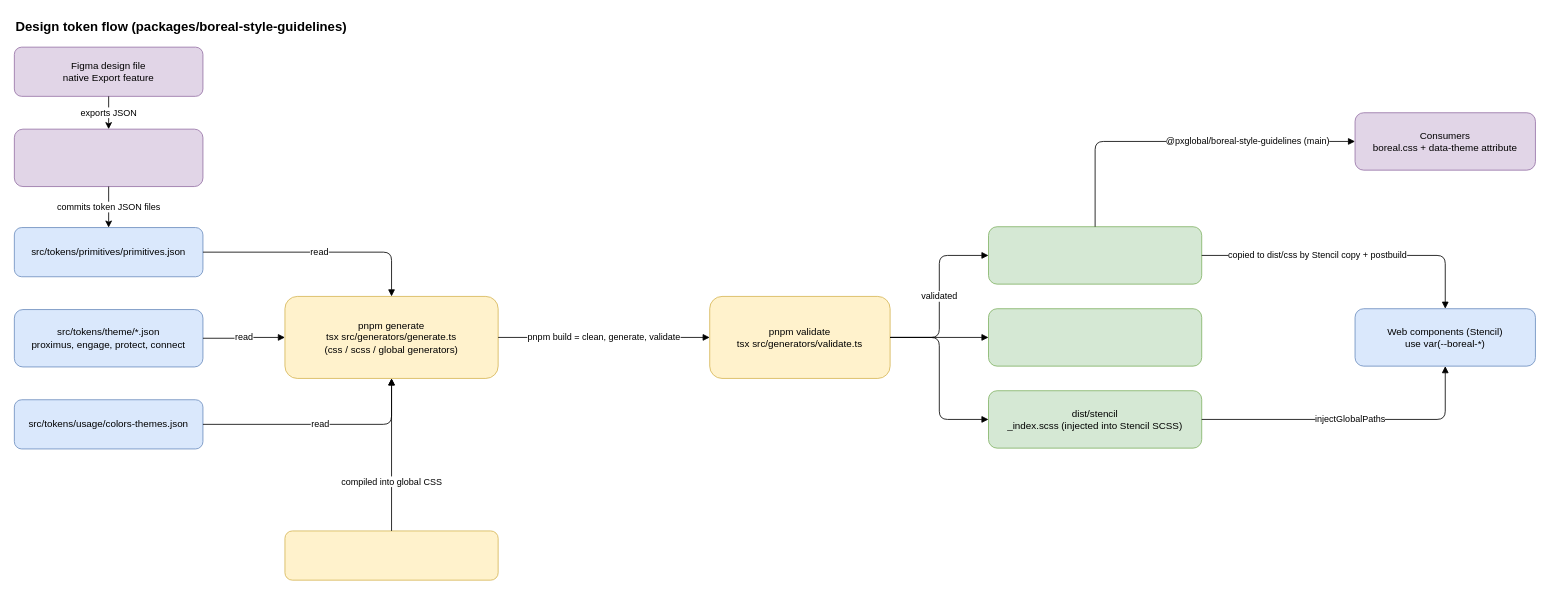
This 1550x595 diagram has some shape labels left out. Each missing label, with the centre of its shape:
dist/css boreal.css, global.css, theme-*.css: [1095,255]
dist/scss variables + maps: [1095,337]
Manual adaptation of the exported JSON to the format the generators expect: [108,157]
src/styles global SCSS (compiled): [391,555]
